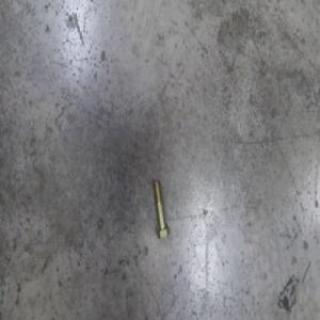Bolttrack_idkeyframe: (151, 180, 170, 240)
